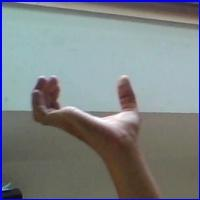B: (26, 71, 152, 159)
